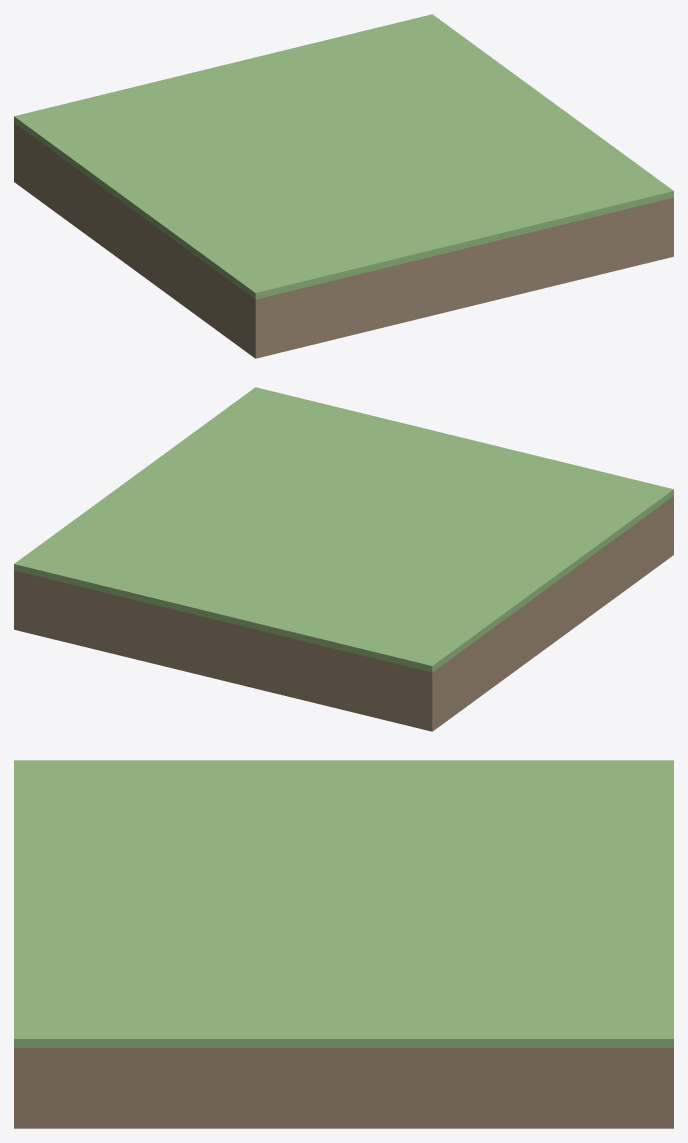
File: terreno__grama.glb
3 renders of one model, top to bottom at view 1: azimuth 30°, elevation 25°; view 2: azimuth 150°, elevation 25°; view 3: azimuth 270°, elevation 25°, orthographic. The views are drawn at different scales.
Parts seen in each view (by area): view 1: terreno__grama; view 2: terreno__grama; view 3: terreno__grama.
Part boxes in pixels (x1,y1,x2,y2): terreno__grama: (14, 14, 673, 358); terreno__grama: (14, 387, 673, 731); terreno__grama: (14, 760, 673, 1128).
Bounding box in the file's own units: 2 × 0.3 × 2.
